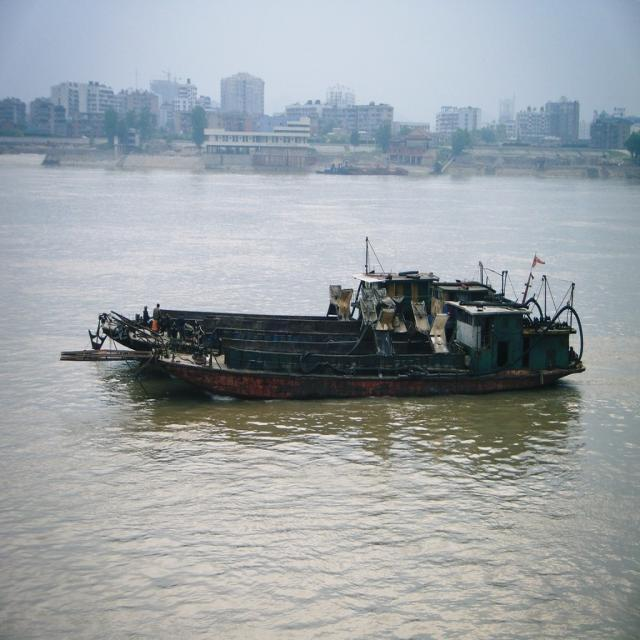boat: (150, 295, 587, 407)
